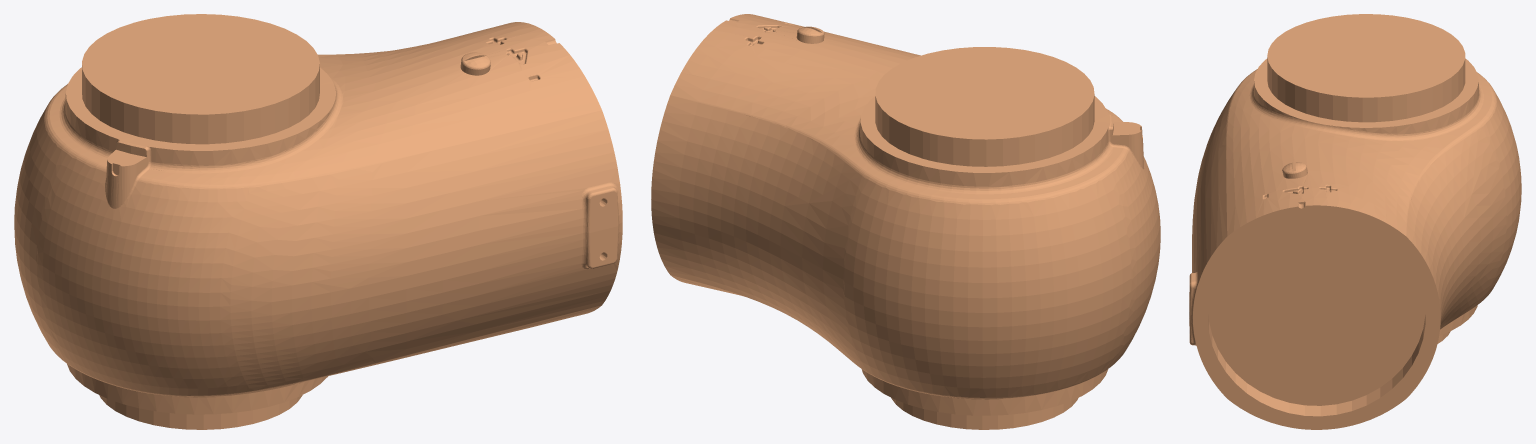
The picture shows the model from 3 angles, left to right: view 1: azimuth 30°, elevation 25°; view 2: azimuth 150°, elevation 25°; view 3: azimuth 270°, elevation 25°; orthographic projection. The views are drawn at different scales.
Visible parts, largest first — view 1: /Link_3/Link_3_001-mesh/0; view 2: /Link_3/Link_3_001-mesh/0; view 3: /Link_3/Link_3_001-mesh/0.
Part boxes in pixels (x1,y1,x2,y2): /Link_3/Link_3_001-mesh/0: (14,14,622,429); /Link_3/Link_3_001-mesh/0: (651,14,1160,429); /Link_3/Link_3_001-mesh/0: (1189,14,1521,429).
Size of the model in its own units: 0.1859 by 0.1192 by 0.1342.
